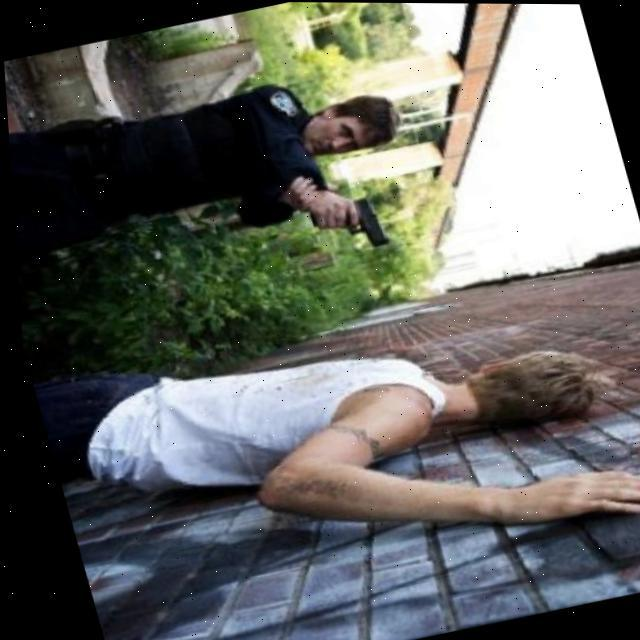gun: (303, 193, 386, 260)
